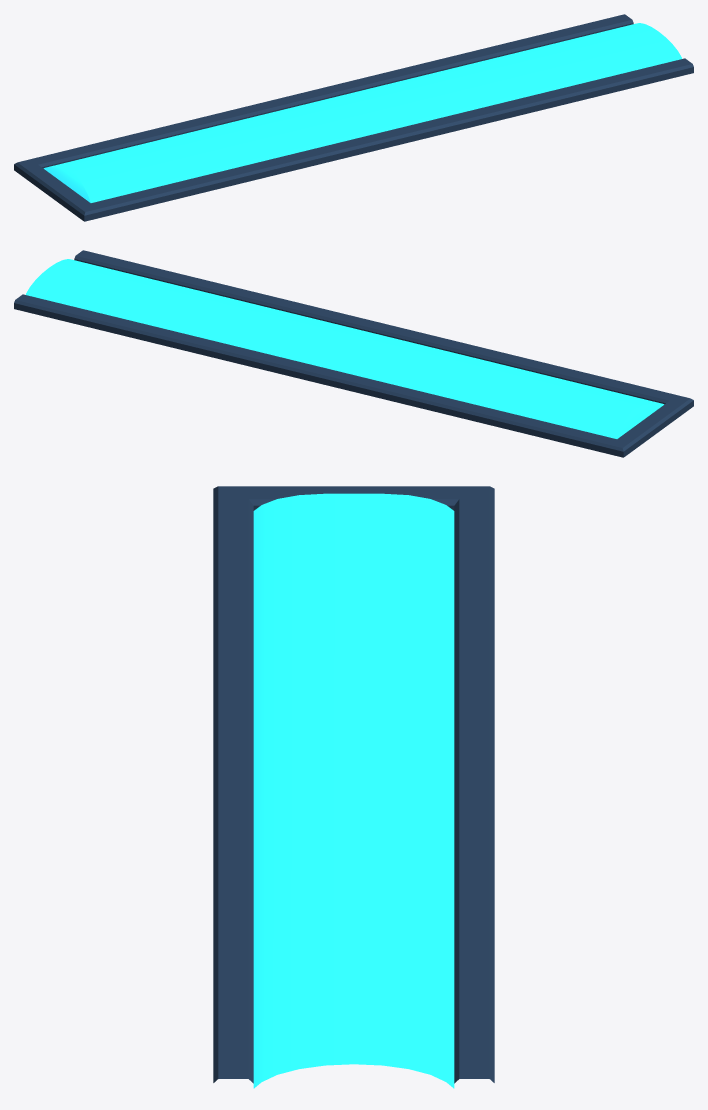
Rendered from Light_Trim_01_SquareEnd.glb.
3 views of the same model, one above another, from view 1: azimuth 30°, elevation 25°; view 2: azimuth 150°, elevation 25°; view 3: azimuth 270°, elevation 25° (orthographic). The views are drawn at different scales.
Visible parts, largest first — view 1: Light_Trim_01_SquareEnd.001; view 2: Light_Trim_01_SquareEnd.001; view 3: Light_Trim_01_SquareEnd.001.
Part boxes in pixels (x1=…): Light_Trim_01_SquareEnd.001: x1=14, y1=14, x2=693, y2=221; Light_Trim_01_SquareEnd.001: x1=14, y1=250, x2=693, y2=457; Light_Trim_01_SquareEnd.001: x1=213, y1=486, x2=494, y2=1088.
Size of the model in its own units: 0.5 by 0.0123 by 0.1.
